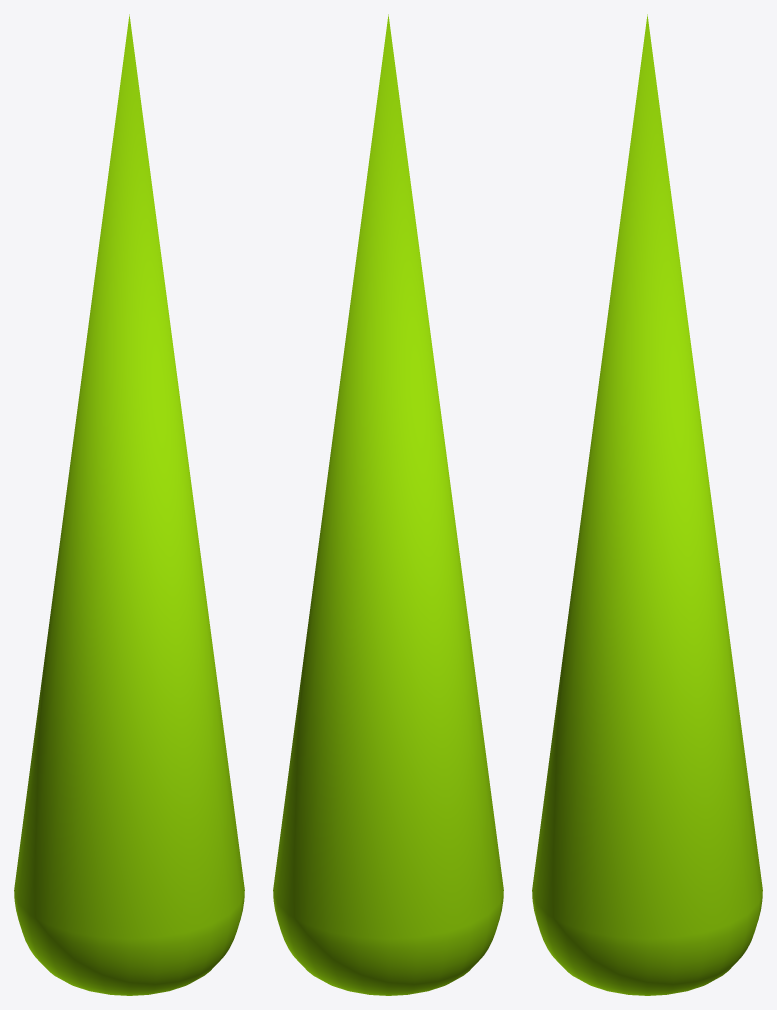
Rendered from HPKK14m.glb.
3 views of the same model, side by side, from view 1: azimuth 30°, elevation 25°; view 2: azimuth 150°, elevation 25°; view 3: azimuth 270°, elevation 25° (orthographic).
Parts seen in each view (by area): view 1: HPKK14m; view 2: HPKK14m; view 3: HPKK14m.
Part boxes in pixels (x1,y1,x2,y2): HPKK14m: [14, 14, 244, 995]; HPKK14m: [273, 14, 503, 995]; HPKK14m: [532, 14, 762, 995].
Size of the model in its own units: 3 by 14 by 3.
